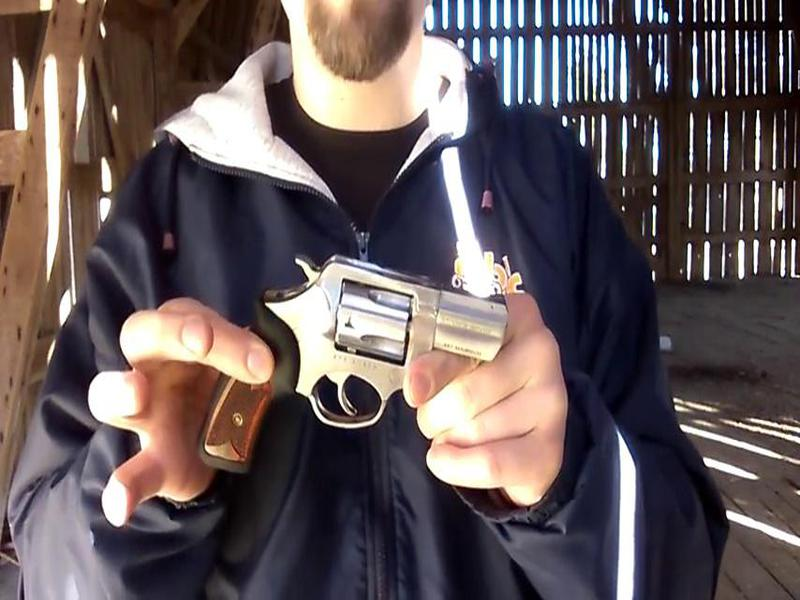Revolver: (182, 217, 502, 479)
